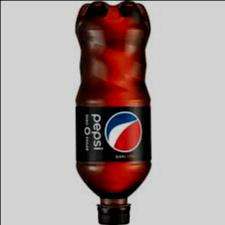Plastic: (72, 1, 156, 224)
